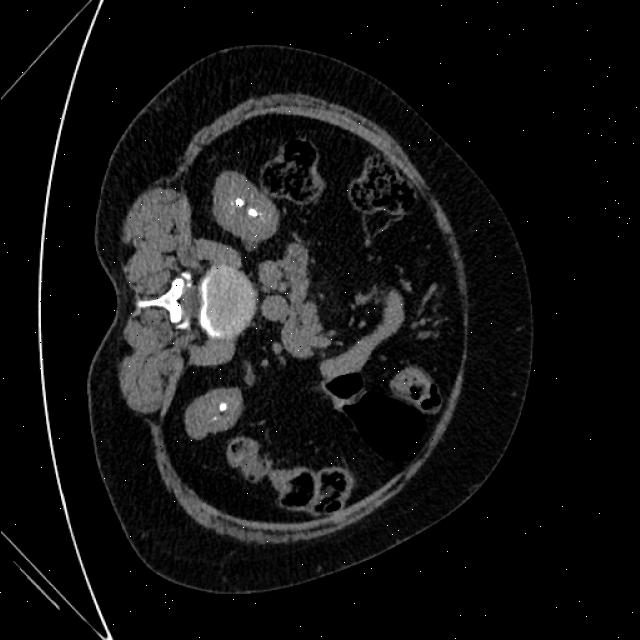kidneystone: (234, 198, 244, 208), (247, 209, 258, 218), (218, 402, 226, 411)
